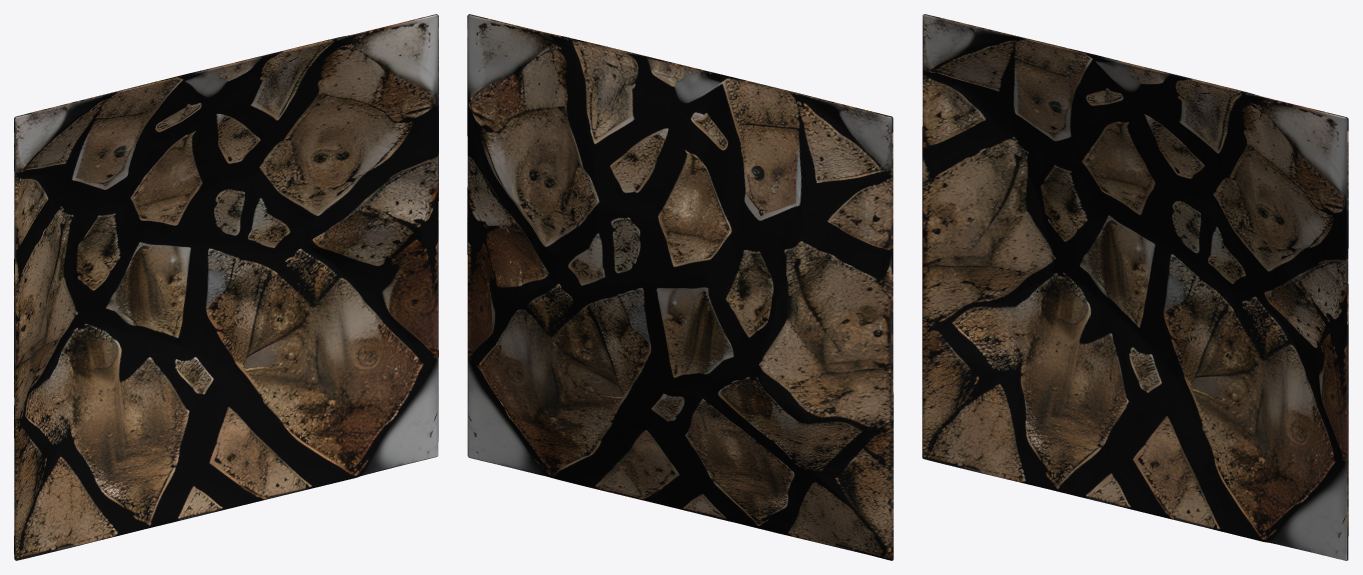
Rendered from upper-mirror-shards.glb.
3 renders of one model, left to right at view 1: azimuth 30°, elevation 25°; view 2: azimuth 150°, elevation 25°; view 3: azimuth 330°, elevation 25°, orthographic.
Parts seen in each view (by area): view 1: model_textured.obj; view 2: model_textured.obj; view 3: model_textured.obj.
Part boxes in pixels (x1,y1,x2,y2): model_textured.obj: [14, 14, 438, 560]; model_textured.obj: [467, 14, 893, 560]; model_textured.obj: [922, 14, 1348, 560].
Size of the model in its own units: 1.99 by 1.99 by 0.3135.
1 material, 1 textured.
